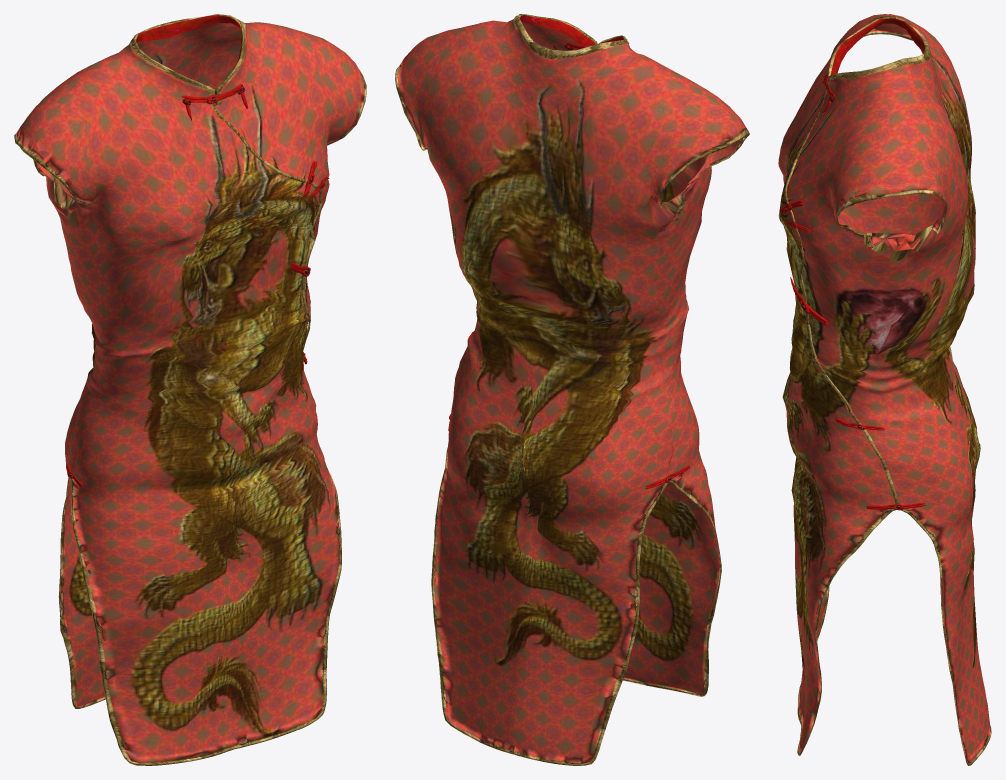
File: elvs-fashion-stylized-qipoa.glb
3 views of the same model, side by side, from view 1: azimuth 30°, elevation 25°; view 2: azimuth 150°, elevation 25°; view 3: azimuth 270°, elevation 25° (orthographic).
Visible parts, largest first — view 1: Human.elvs_fashion_stylized_qipoa; view 2: Human.elvs_fashion_stylized_qipoa; view 3: Human.elvs_fashion_stylized_qipoa.
Part boxes in pixels (left/top/right/bottom): Human.elvs_fashion_stylized_qipoa: left=14, top=14, right=366, bottom=765; Human.elvs_fashion_stylized_qipoa: left=395, top=14, right=749, bottom=765; Human.elvs_fashion_stylized_qipoa: left=778, top=14, right=991, bottom=765.
Bounding box in the file's own units: 0.5453 × 1.08 × 0.3007.
1 material, 1 textured.
